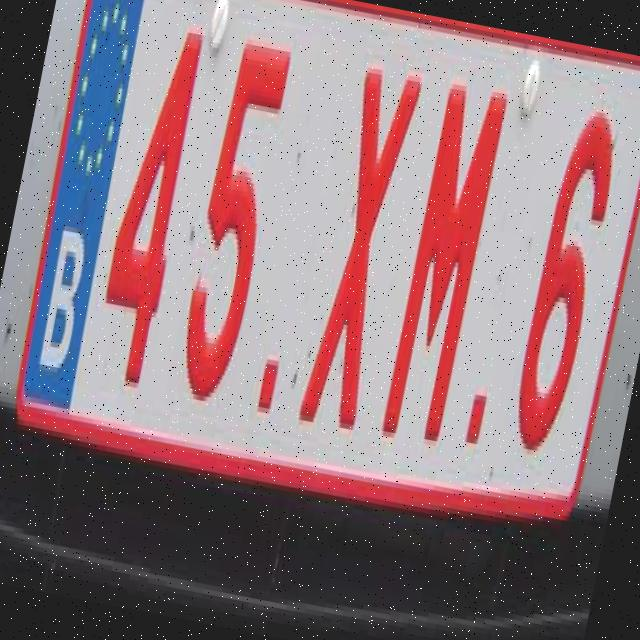Belgique: (23, 0, 144, 422)
EU: (12, 0, 640, 525)
